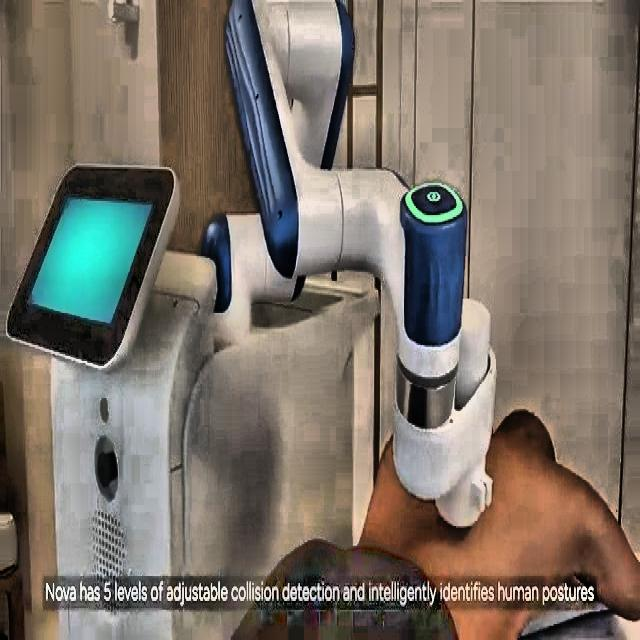robot: (200, 0, 498, 530)
